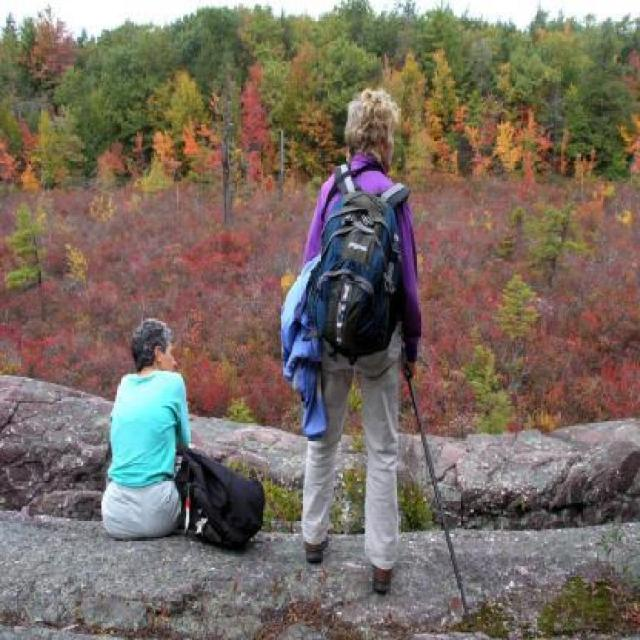backpack: (312, 188, 400, 360), (177, 443, 266, 552)
